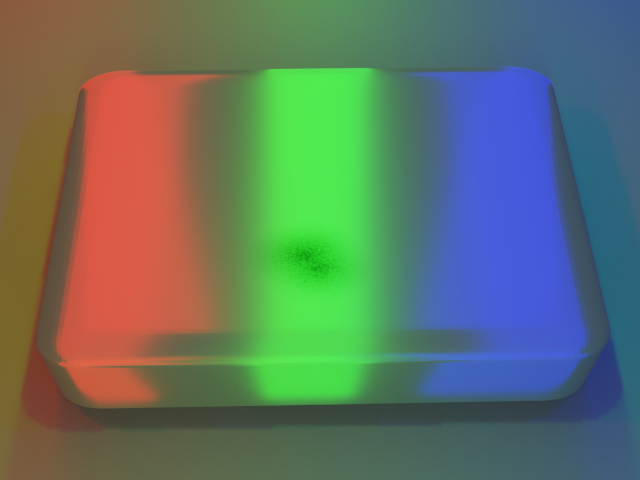stain: (189, 193, 418, 327)
